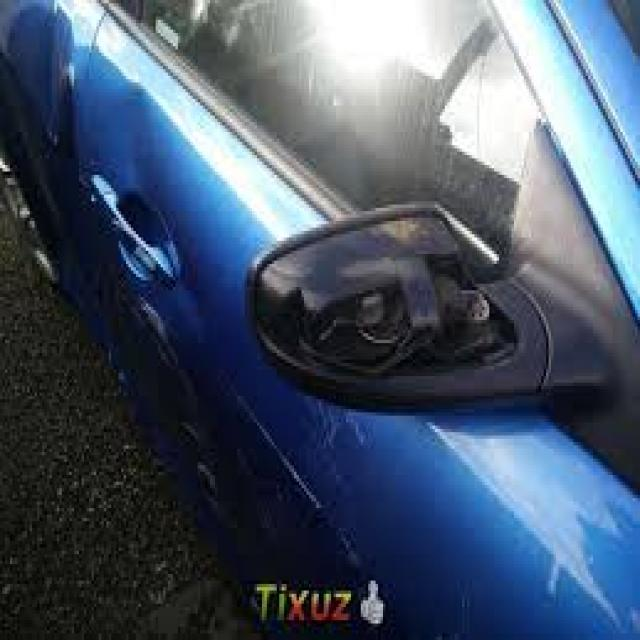minor: (73, 173, 564, 621)
